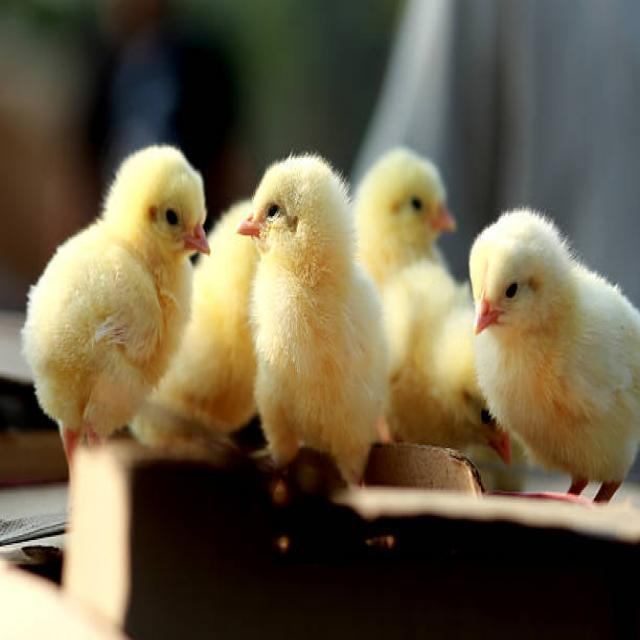Healthy: (231, 148, 398, 503), (26, 135, 211, 448), (463, 188, 640, 505)
